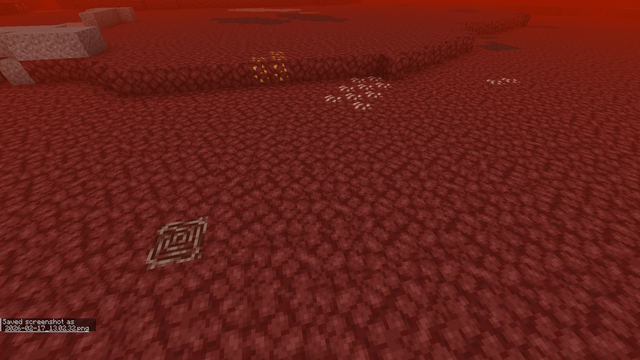debris: (150, 214, 208, 267)
gold: (248, 46, 292, 86)
quartz: (320, 72, 399, 112), (484, 74, 524, 92)
